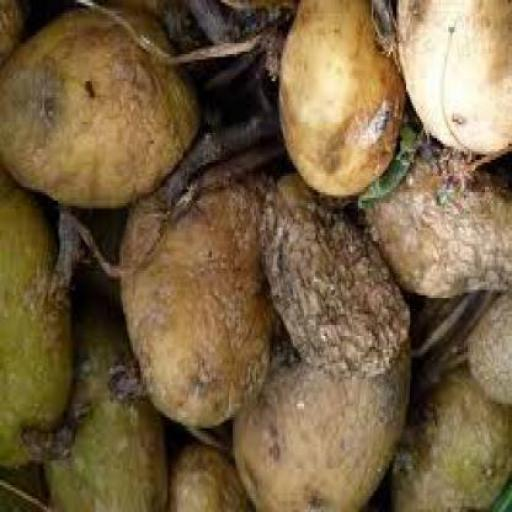biodegradable: (0, 1, 511, 512), (1, 10, 200, 218), (116, 165, 270, 433), (226, 343, 412, 511), (260, 178, 406, 386), (38, 295, 169, 511), (275, 3, 404, 200), (360, 136, 510, 303), (135, 120, 281, 268), (0, 176, 71, 474), (397, 2, 510, 158), (389, 368, 509, 512), (407, 296, 500, 392), (66, 211, 125, 312), (166, 2, 278, 52), (165, 447, 247, 511), (197, 57, 273, 124), (356, 130, 418, 211), (468, 296, 510, 406), (0, 2, 27, 68), (0, 470, 44, 510), (260, 30, 286, 81)
